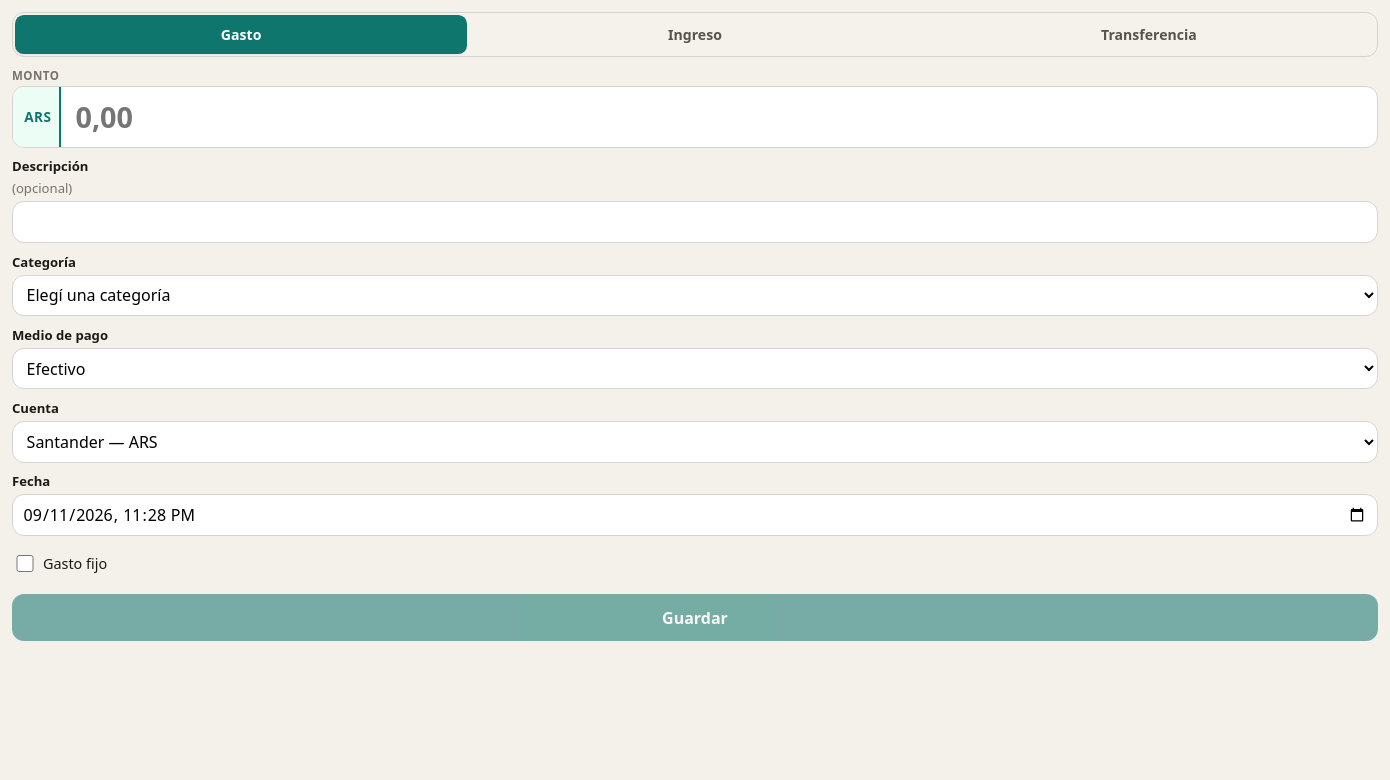
Test case: QuickAddForm › submits a transfer via createTransfer
Check: the button "Guardar" is shown, box [12,594,1378,641]
Click the button "Transferencia": [1149, 35] box [923,15,1375,54]
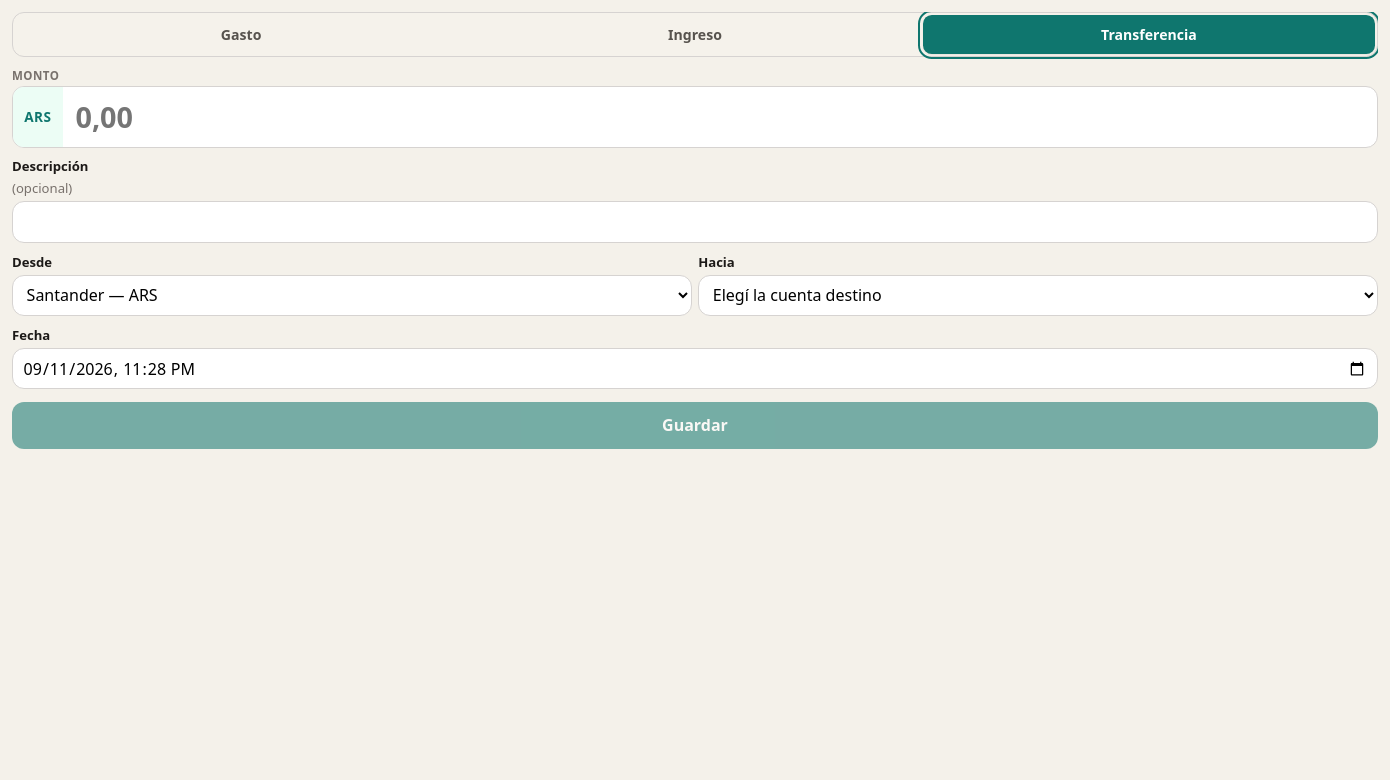
In the field with placeholder "0,00": [720, 117] box [63,87,1377,147], type "100"
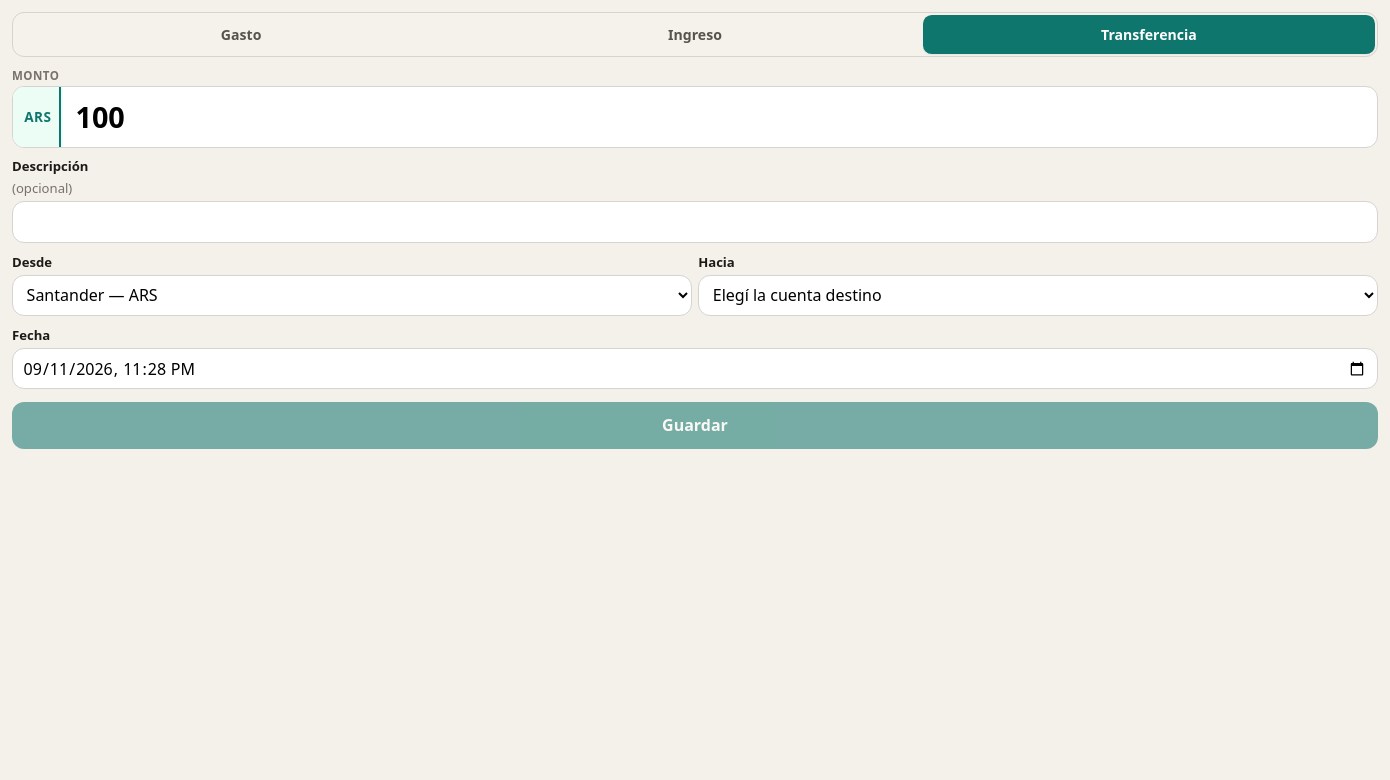
Select "Caja — ARS" in the dropdown labelled "Hacia": [1038, 295] box [698,275,1378,316]
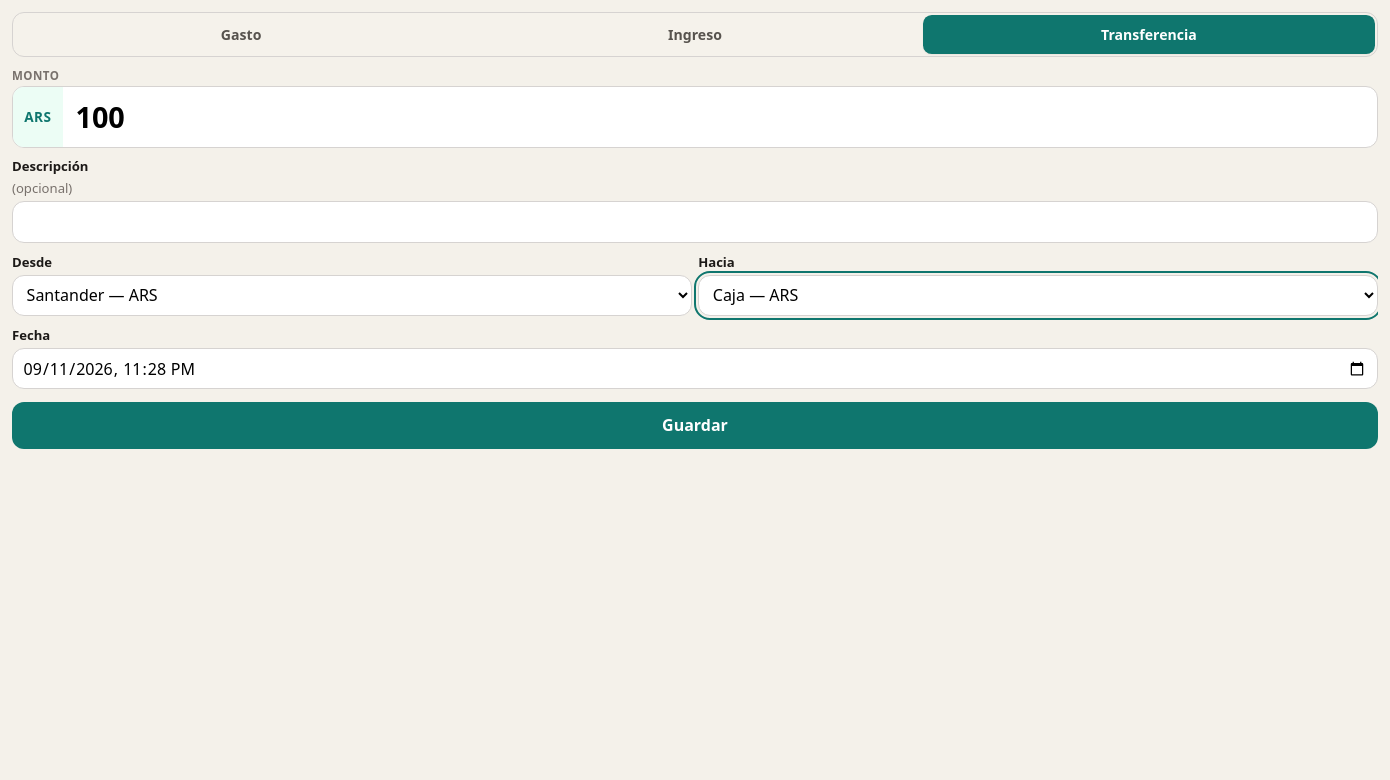
Click the button "Guardar": [695, 426] box [12,402,1378,449]
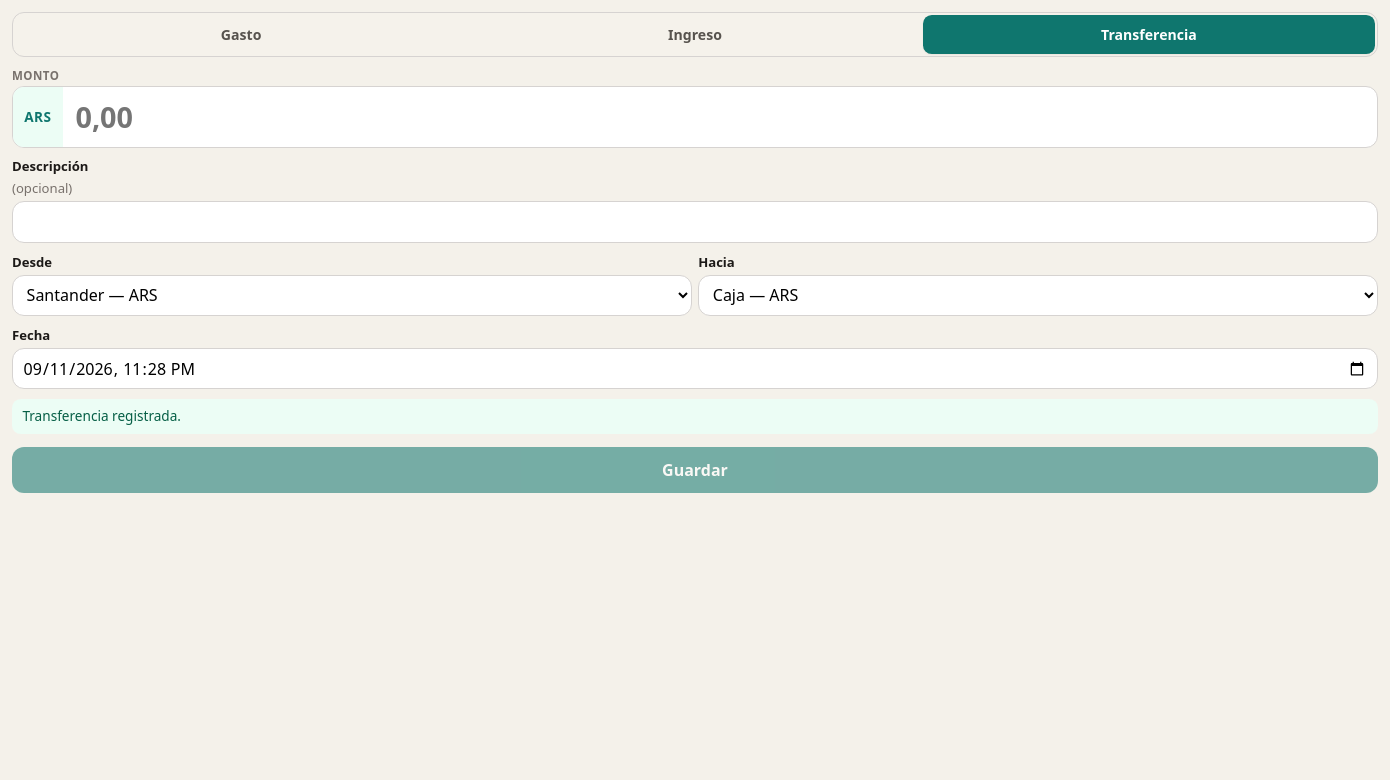
Check: the text "Transferencia registrada." is shown, box [12,399,1378,434]
